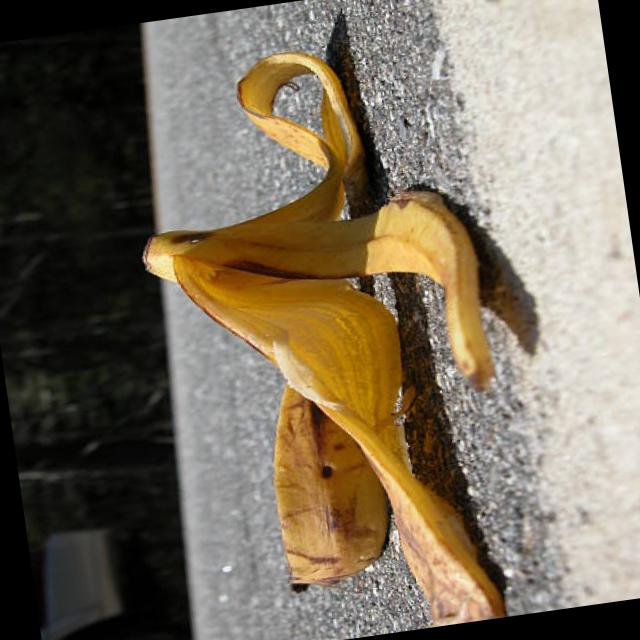banana_peel: (131, 29, 505, 623)
